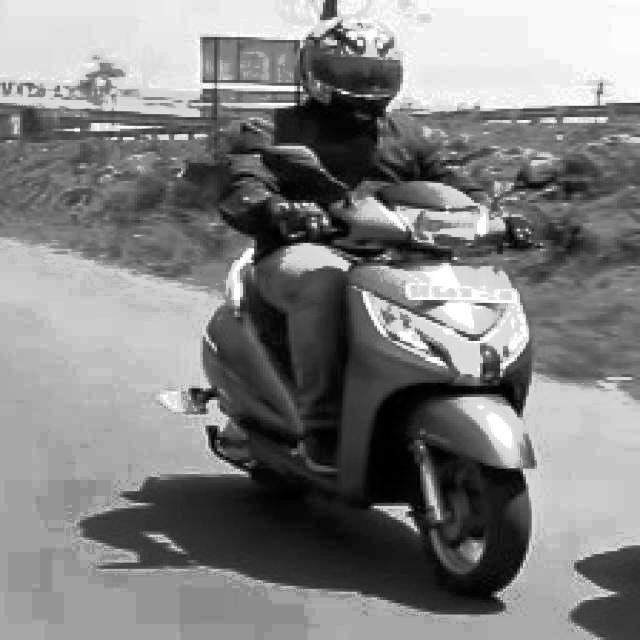Bike: (186, 178, 550, 596)
